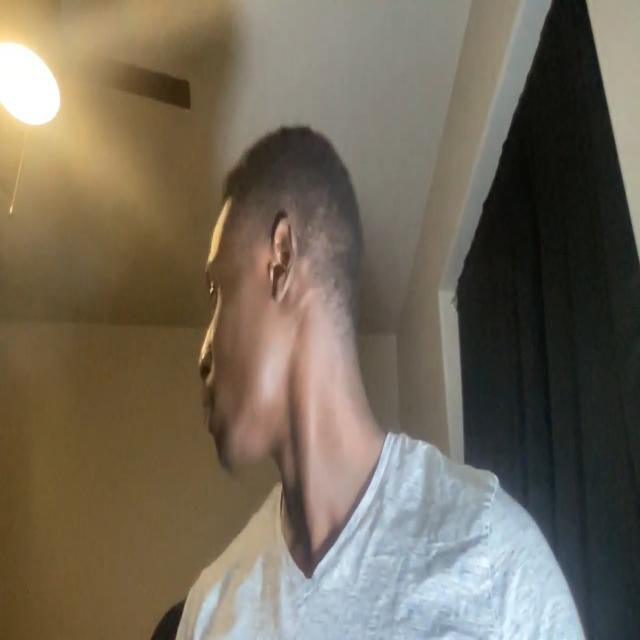face: (198, 132, 354, 482)
